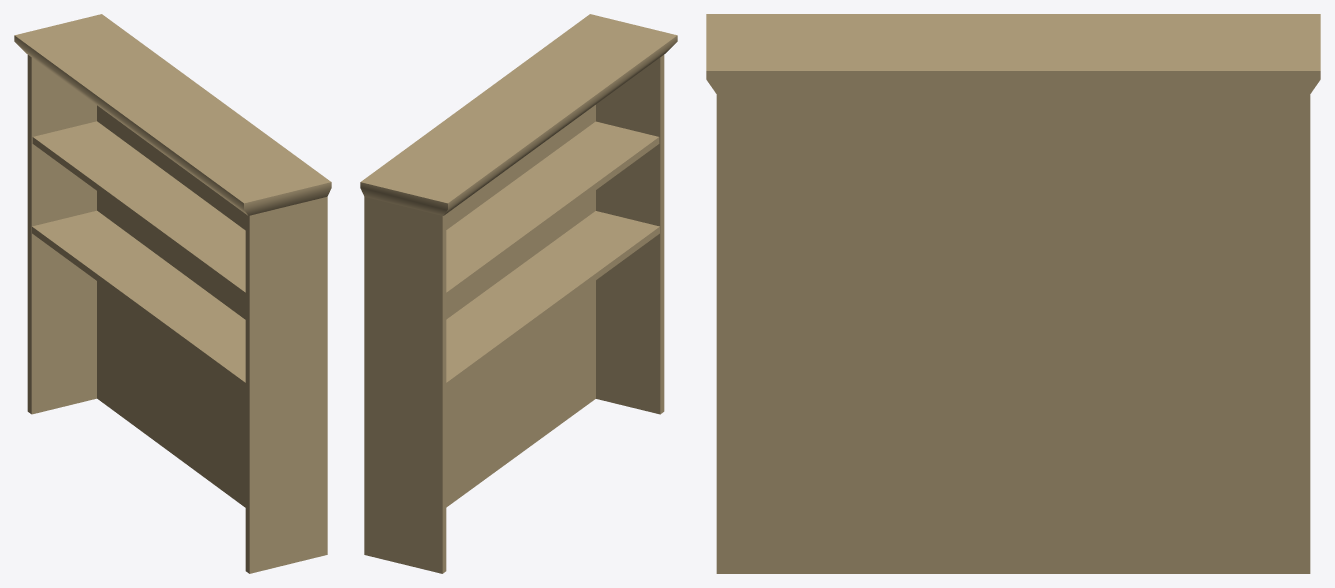
Rendered from CabinetDisplay_B_Snaps004.FBX.
3 views of the same model, side by side, from view 1: azimuth 30°, elevation 25°; view 2: azimuth 150°, elevation 25°; view 3: azimuth 270°, elevation 25° (orthographic). The views are drawn at different scales.
Visible parts, largest first — view 1: Geometry_CabinetDisplay_B_LOD00; view 2: Geometry_CabinetDisplay_B_LOD00; view 3: Geometry_CabinetDisplay_B_LOD00.
Boxes of the visible parts, bbox=[...] form: Geometry_CabinetDisplay_B_LOD00: bbox=[14, 14, 331, 573]; Geometry_CabinetDisplay_B_LOD00: bbox=[360, 14, 677, 573]; Geometry_CabinetDisplay_B_LOD00: bbox=[706, 14, 1320, 573].
Size of what is drawn, in the model's own units: 33.65 by 138 by 153.
